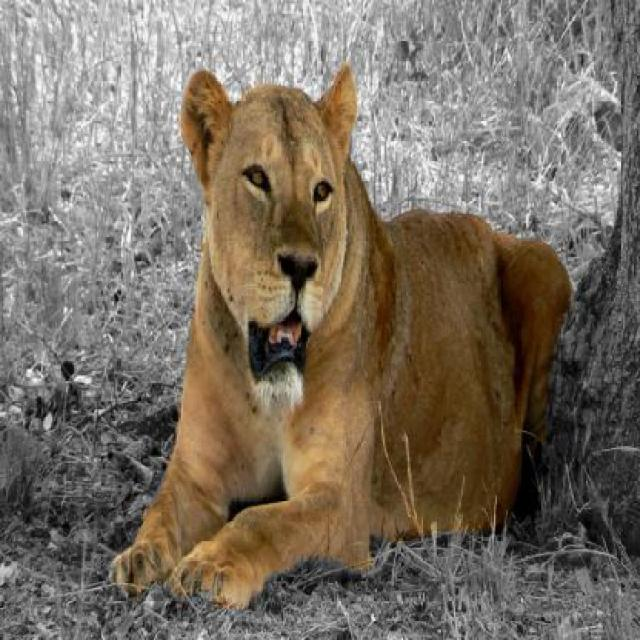Lion: (114, 43, 588, 639)
